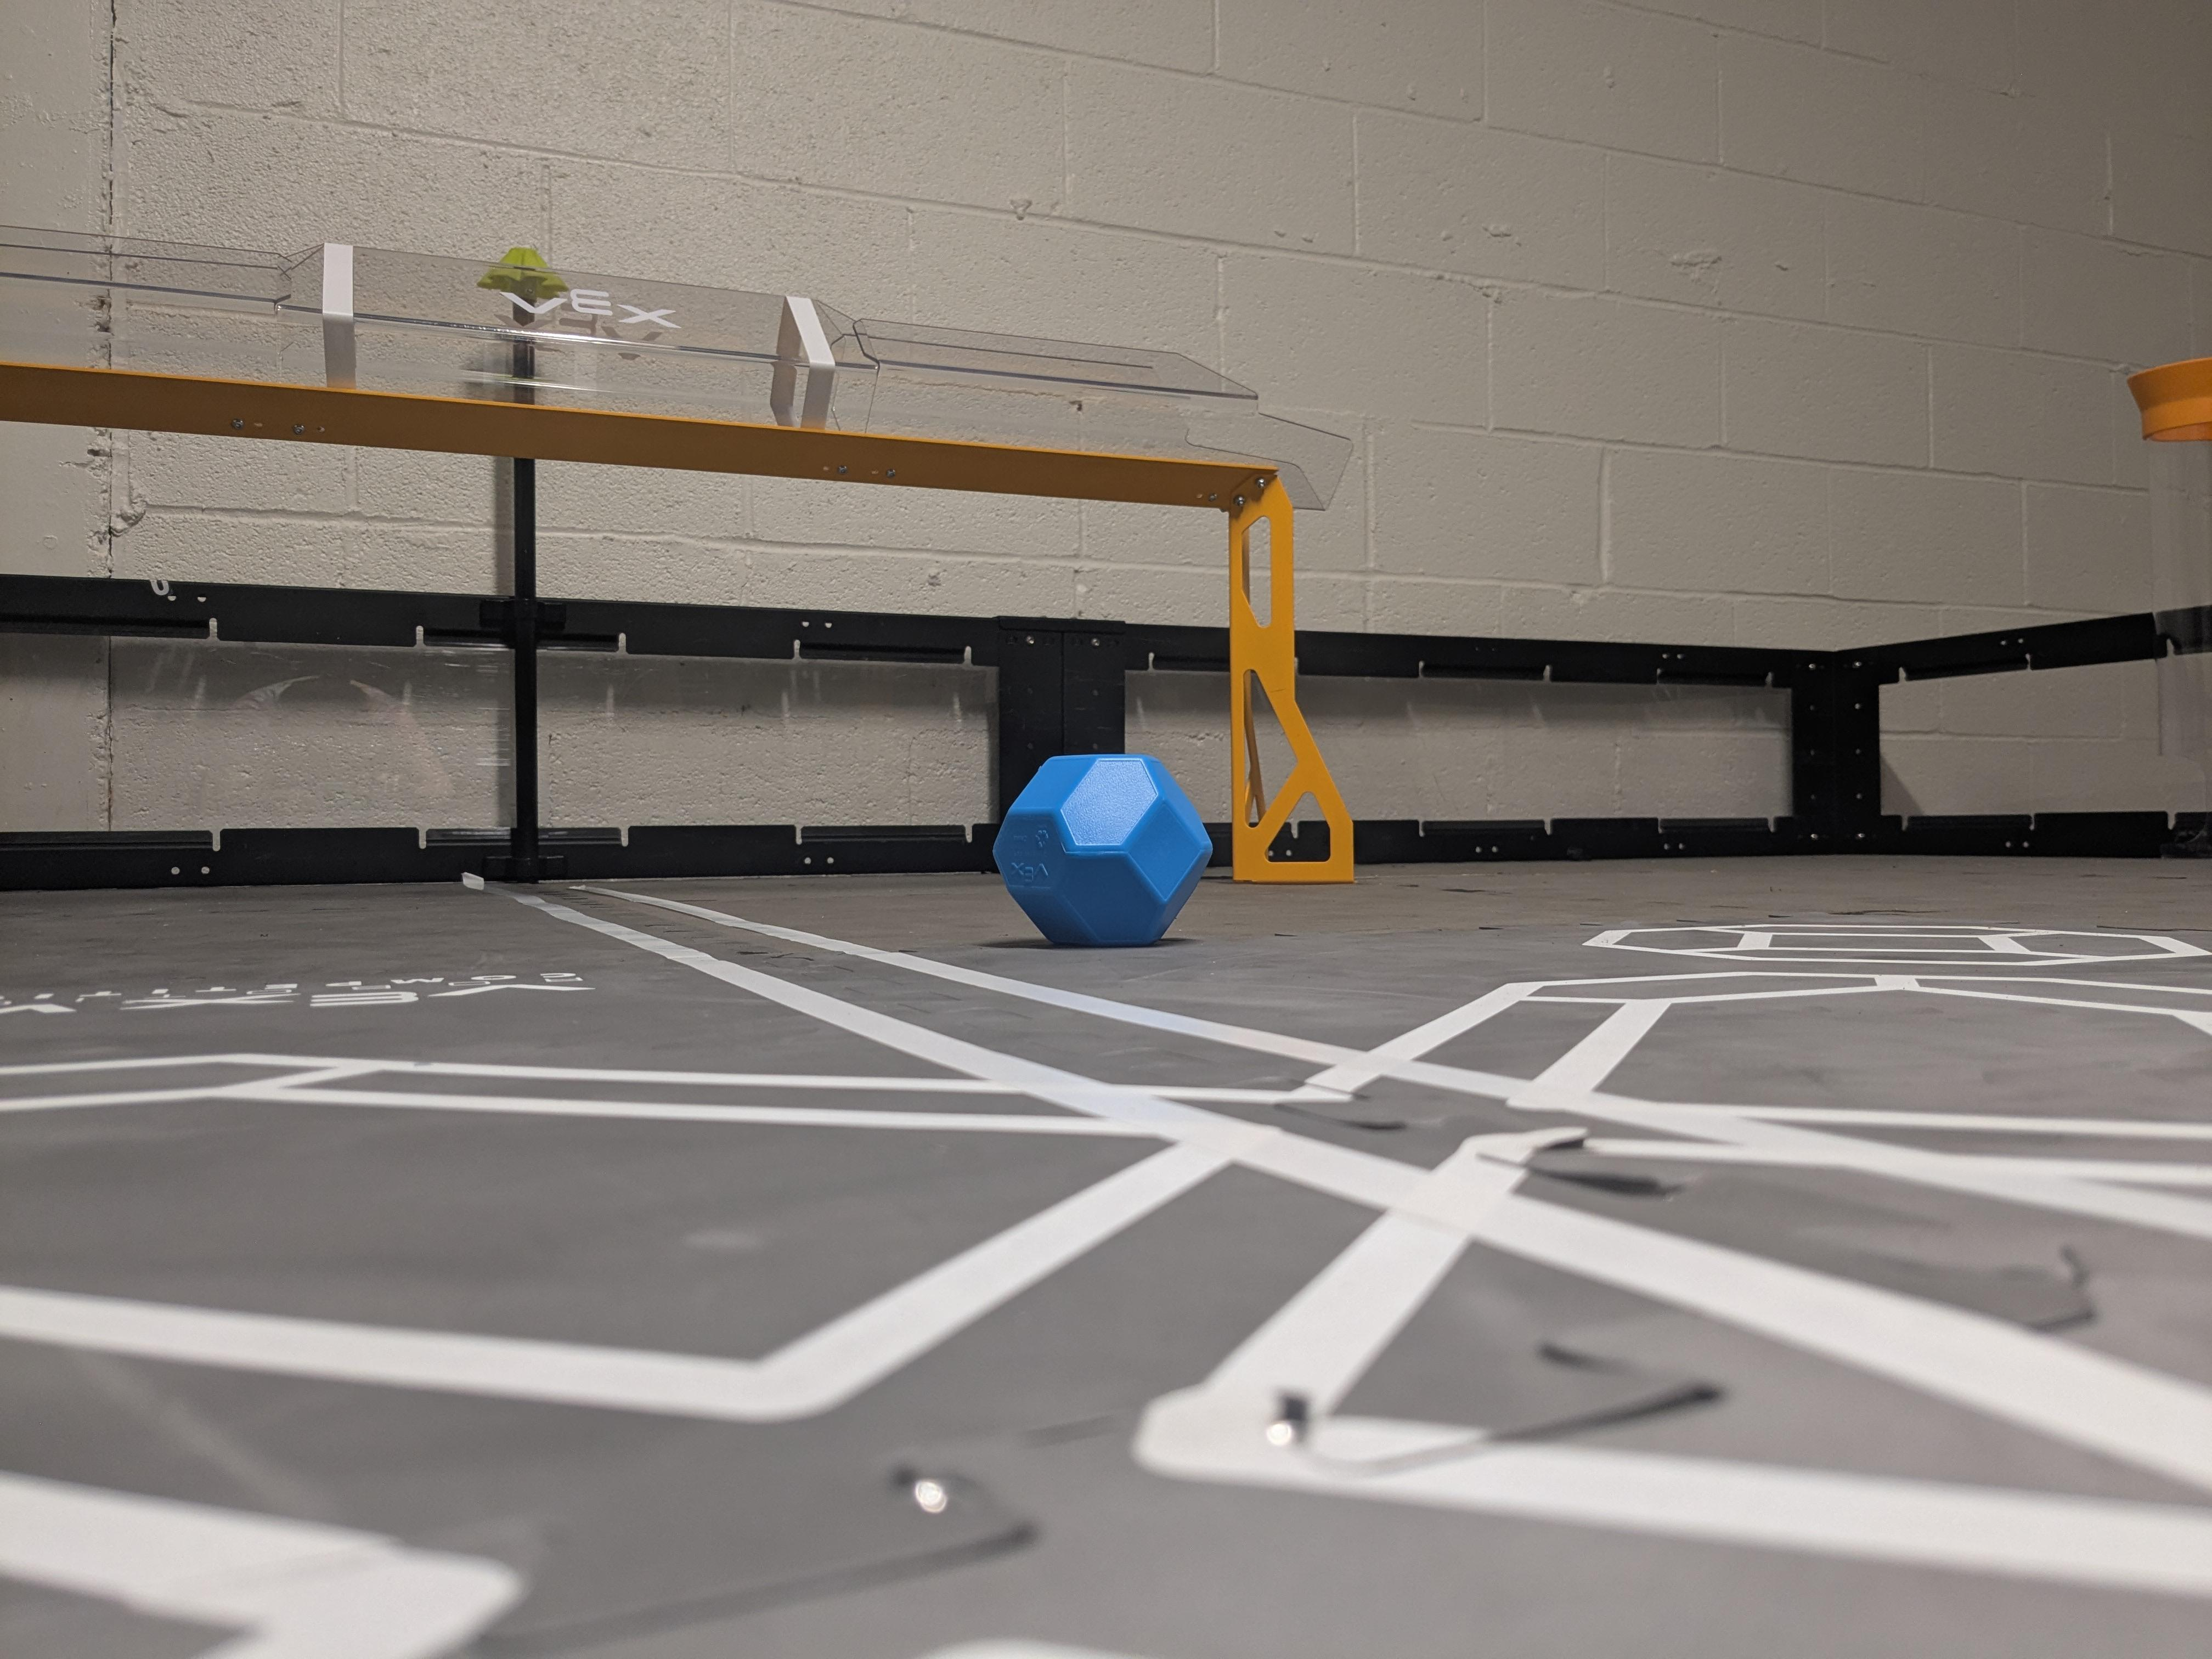Vex-Pieces-BLUE: (995, 755, 1212, 946)
